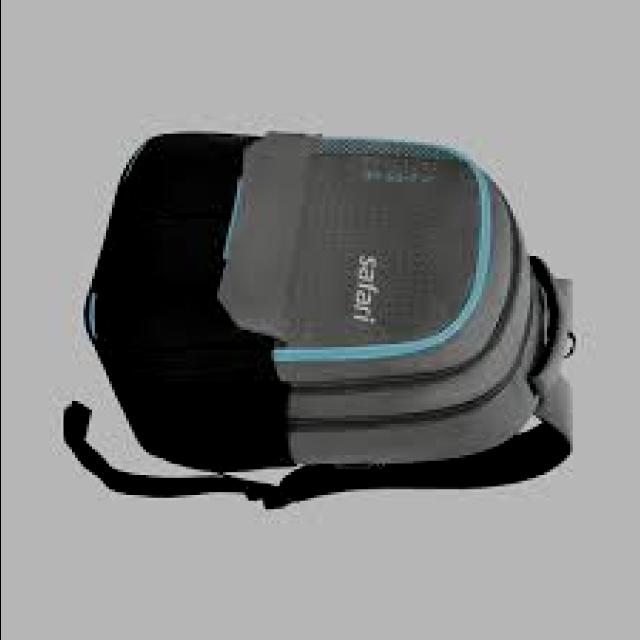backpack: (64, 129, 579, 510)
